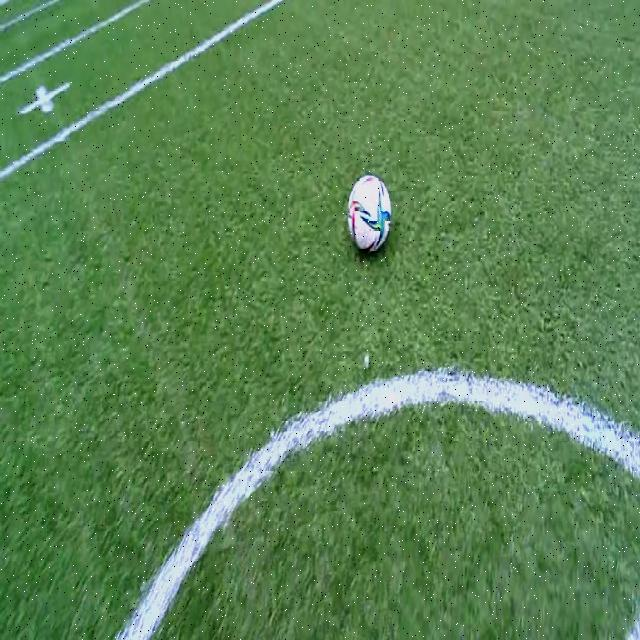ball: (348, 175, 391, 253)
